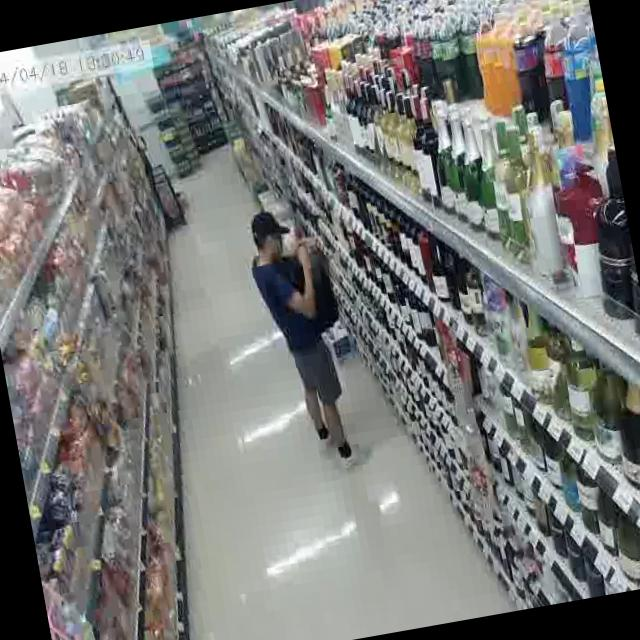shoplifting: (234, 188, 380, 487)
